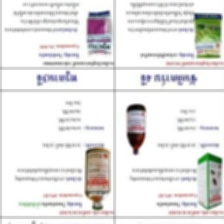carton: (195, 151, 223, 211)
insecticide: (83, 145, 112, 211), (192, 8, 224, 60), (83, 6, 114, 59), (124, 103, 150, 158)
